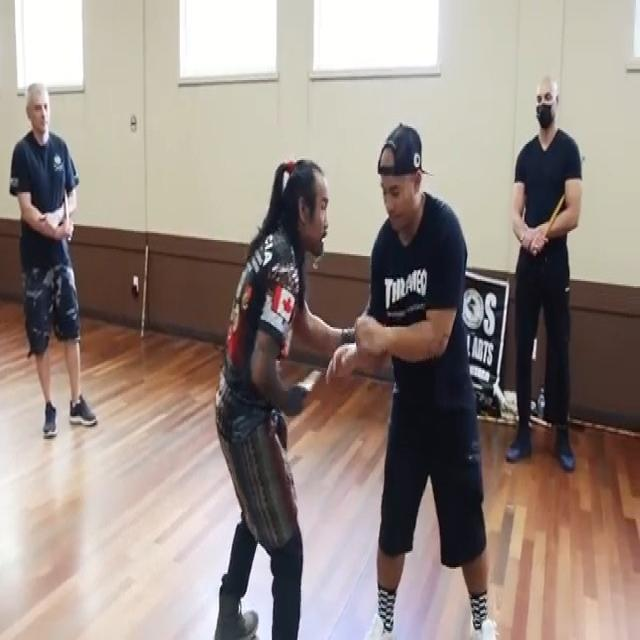Sharp-Object: (283, 371, 324, 407)
